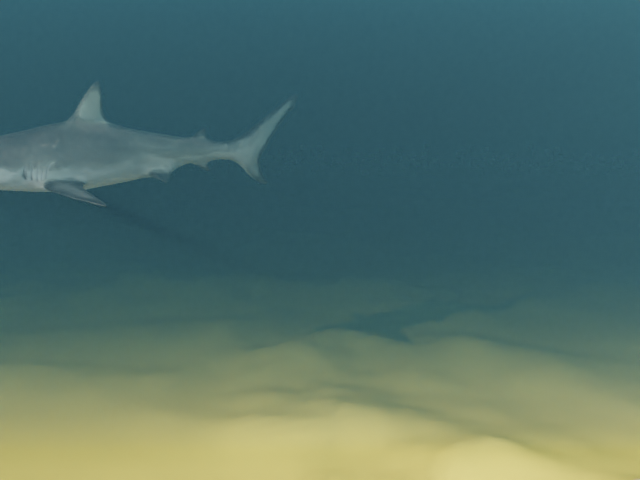Carribean Shark.001: (0, 81, 297, 206)
